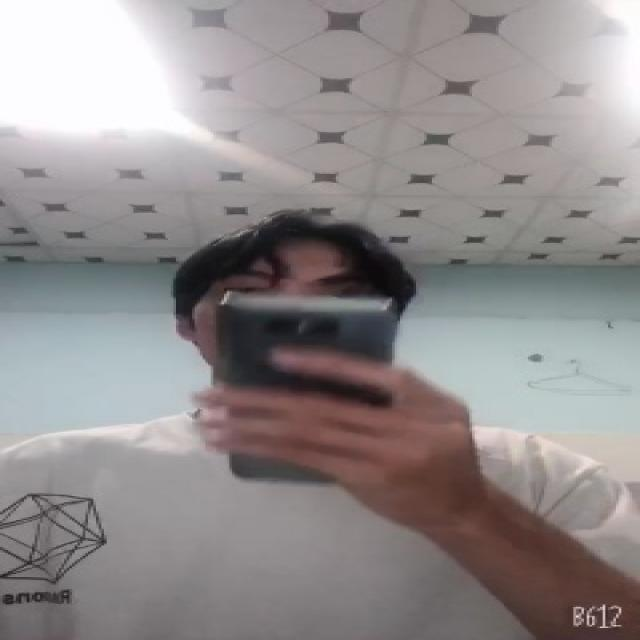Phone: (219, 294, 399, 484)
